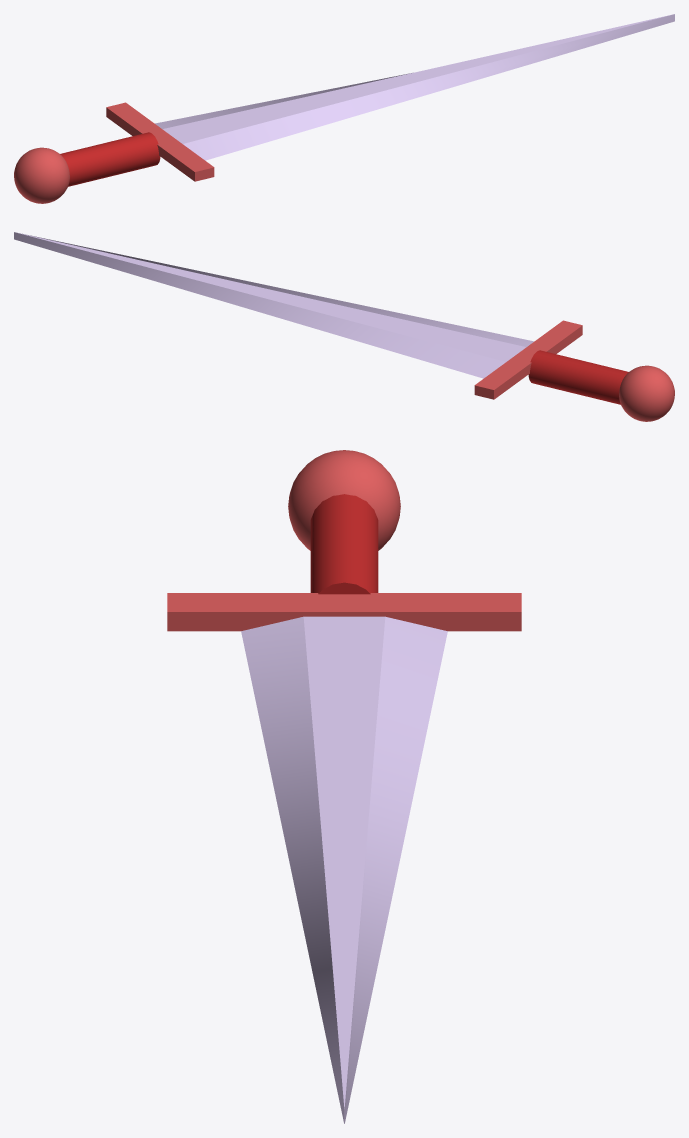
Rendered from paska.glb.
3 views of the same model, one above another, from view 1: azimuth 30°, elevation 25°; view 2: azimuth 150°, elevation 25°; view 3: azimuth 270°, elevation 25° (orthographic). The views are drawn at different scales.
Visible parts, largest first — view 1: Box001, Cylinder001, Box002, Sphere001; view 2: Box001, Cylinder001, Box002, Sphere001; view 3: Box001, Box002, Cylinder001, Sphere001.
Part boxes in pixels (x1,y1,x2,y2): Box001: (155, 14, 674, 160); Cylinder001: (60, 132, 160, 186); Box002: (106, 102, 214, 181); Sphere001: (14, 147, 69, 203); Box001: (14, 232, 533, 378); Cylinder001: (528, 350, 628, 404); Box002: (474, 320, 582, 399); Sphere001: (619, 365, 674, 421); Box001: (241, 616, 447, 1123); Box002: (167, 593, 521, 631); Cylinder001: (310, 494, 378, 594); Sphere001: (288, 450, 400, 550).
Bounding box in the file's own units: 0.4398 × 0.0327 × 0.1027.
